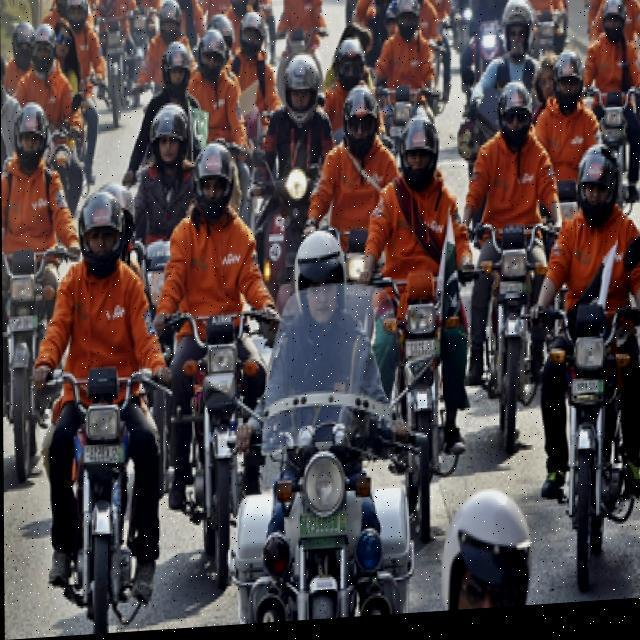Helmet: (289, 229, 351, 339), (190, 130, 244, 230), (570, 144, 628, 236), (74, 188, 128, 282), (394, 114, 446, 198), (276, 51, 327, 136), (8, 92, 56, 177), (491, 85, 538, 158), (157, 38, 194, 104)
